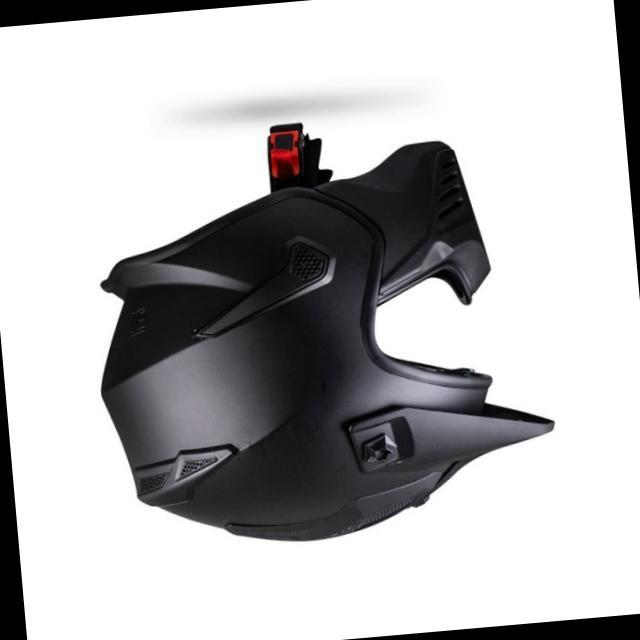Helm: (83, 131, 568, 563)
